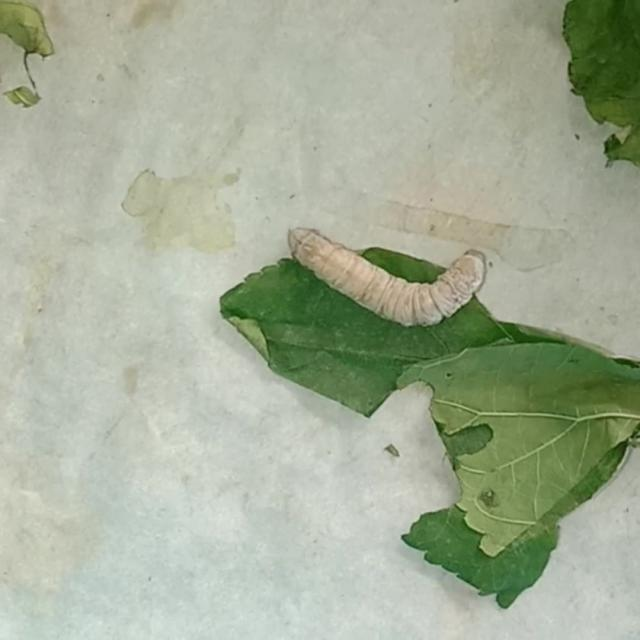Grasserie: (283, 208, 505, 348)
